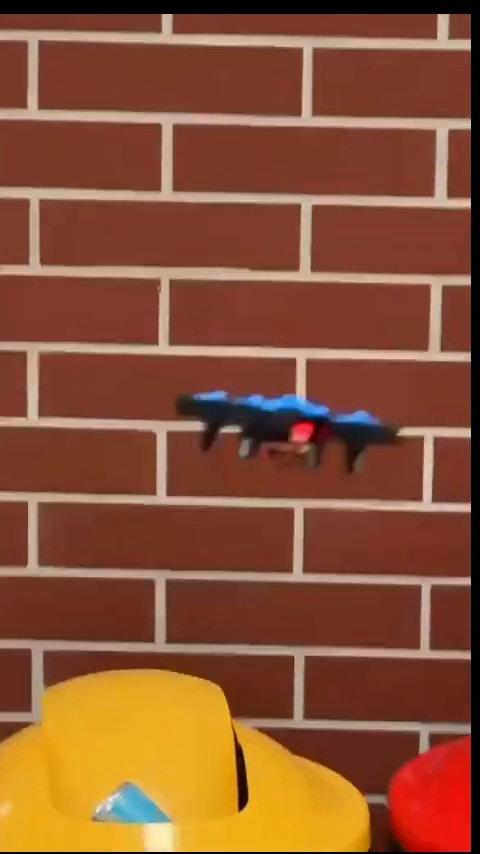drone: (174, 389, 404, 482)
